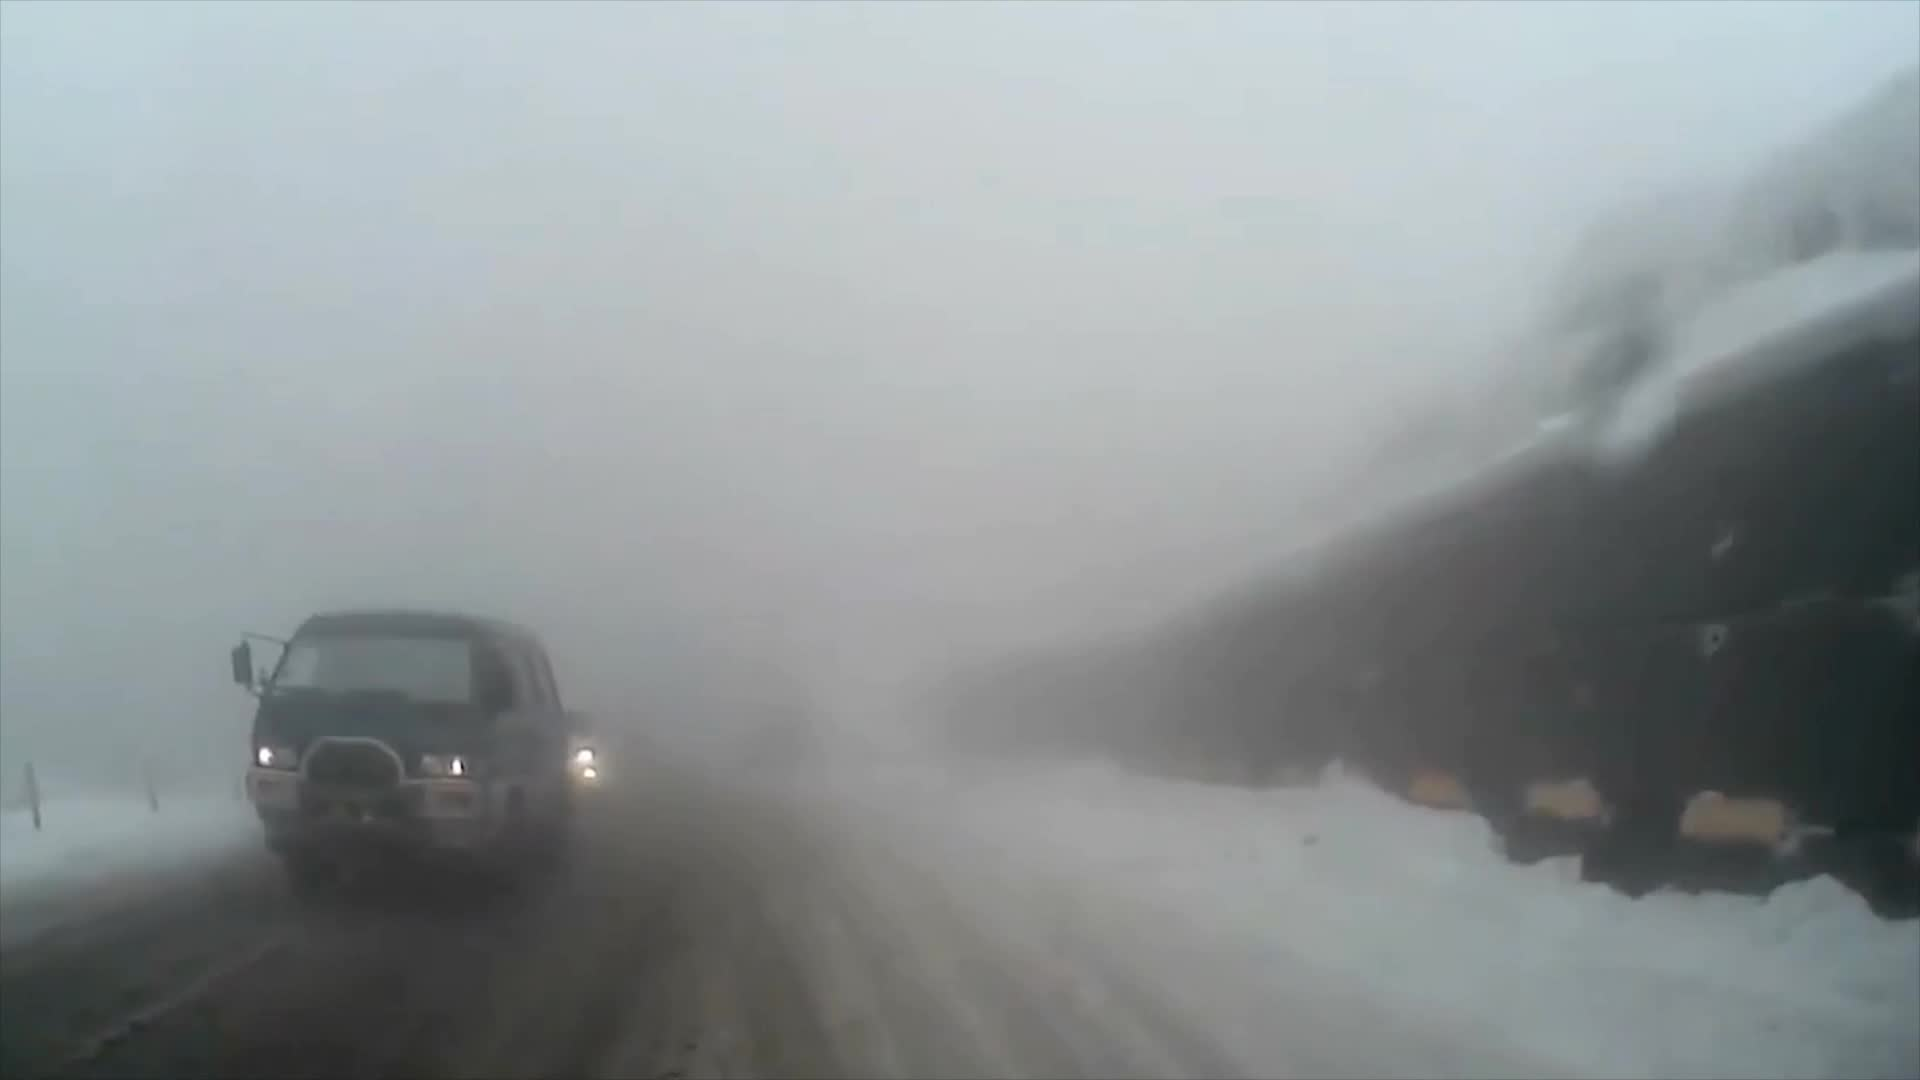vehicle: (227, 601, 575, 918)
